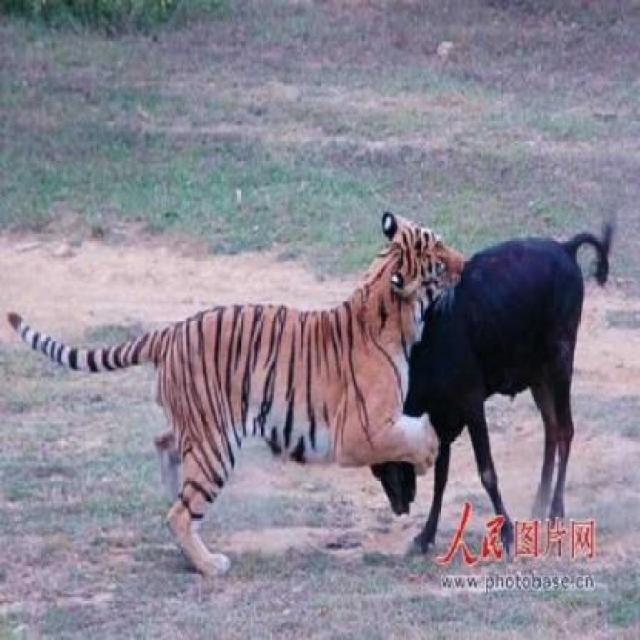tiger: (5, 209, 466, 580), (399, 219, 614, 559)
